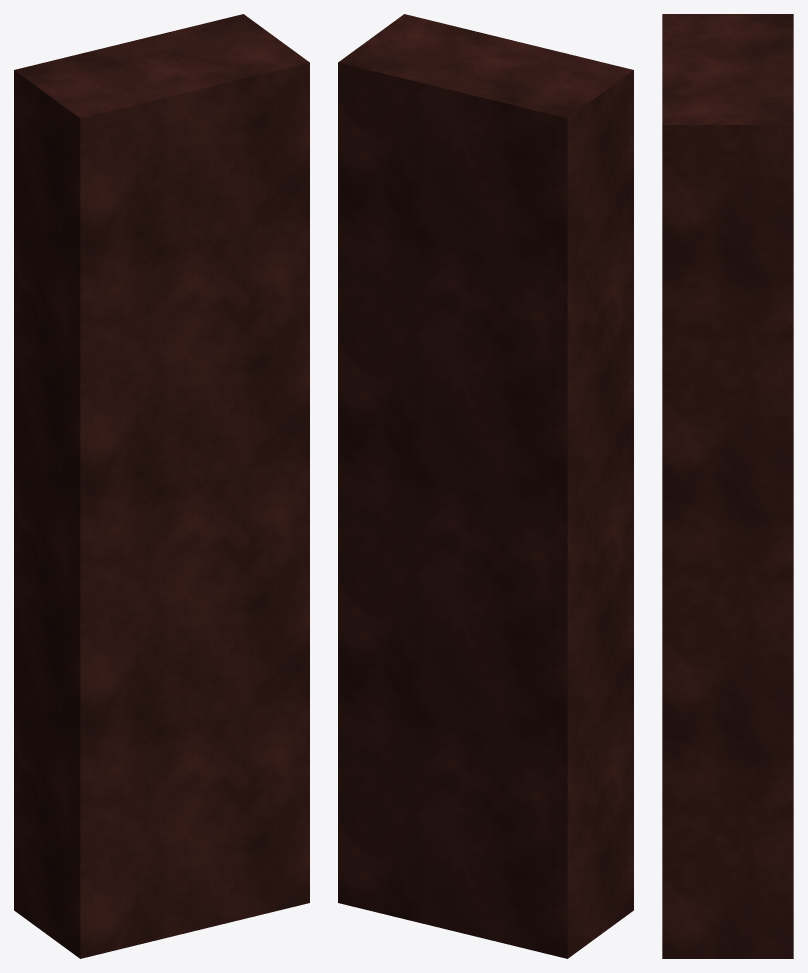
The model's file is wallmetal3.glb.
3 renders of one model, left to right at view 1: azimuth 30°, elevation 25°; view 2: azimuth 150°, elevation 25°; view 3: azimuth 270°, elevation 25°, orthographic.
Parts seen in each view (by area): view 1: mergedBlocks(Clone); view 2: mergedBlocks(Clone); view 3: mergedBlocks(Clone).
Part boxes in pixels (<box>): mergedBlocks(Clone): <box>14,14,309,958</box>; mergedBlocks(Clone): <box>338,14,633,958</box>; mergedBlocks(Clone): <box>662,14,793,958</box>.
Size of the model in its own units: 1 by 3.5 by 0.5.
Materials: 2 (2 with a texture image).
